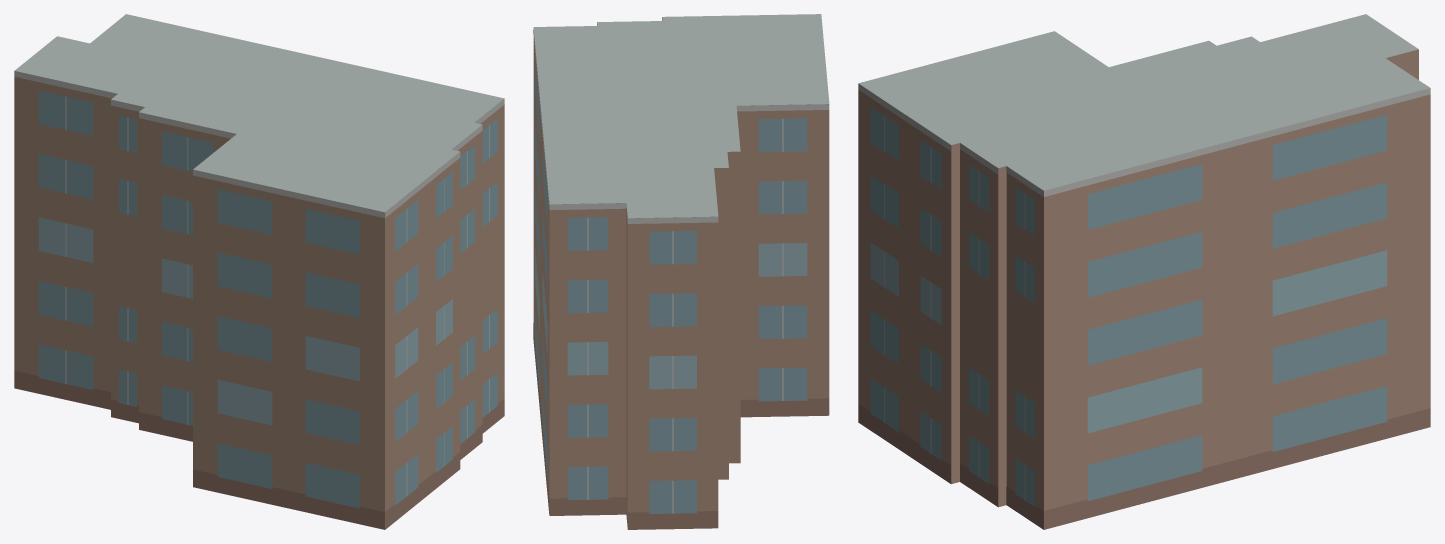
Rendered from survey-upis-32748288.glb.
3 renders of one model, left to right at view 1: azimuth 30°, elevation 25°; view 2: azimuth 150°, elevation 25°; view 3: azimuth 270°, elevation 25°, orthographic. The views are drawn at different scales.
Visible parts, largest first — view 1: survey-upis-32748288.tmp; view 2: survey-upis-32748288.tmp; view 3: survey-upis-32748288.tmp.
Part boxes in pixels (x1,y1,x2,y2): survey-upis-32748288.tmp: (14, 14, 504, 529); survey-upis-32748288.tmp: (533, 14, 829, 529); survey-upis-32748288.tmp: (858, 14, 1430, 529).
Bounding box in the file's own units: 14.66 × 13.1 × 20.05.
